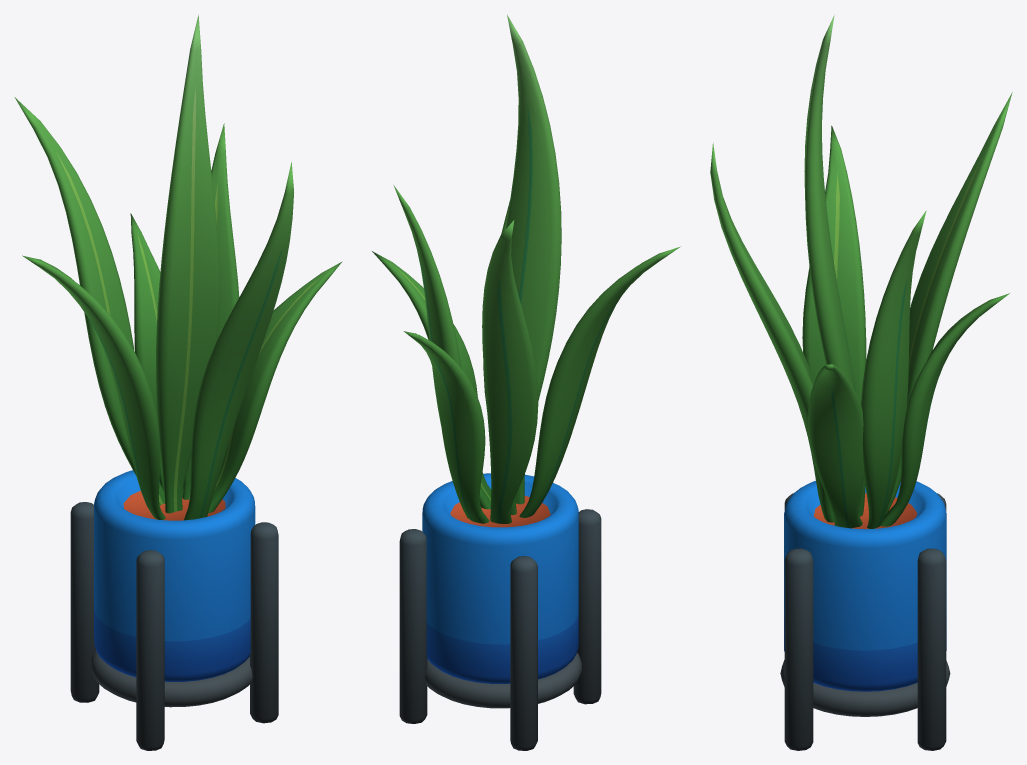
Rendered from Plants_17.glb.
3 views of the same model, side by side, from view 1: azimuth 30°, elevation 25°; view 2: azimuth 150°, elevation 25°; view 3: azimuth 270°, elevation 25° (orthographic). The views are drawn at different scales.
Visible parts, largest first — view 1: Plants_17; view 2: Plants_17; view 3: Plants_17.
Part boxes in pixels (x1,y1,x2,y2): Plants_17: [14, 14, 342, 750]; Plants_17: [372, 14, 680, 750]; Plants_17: [710, 14, 1012, 750].
Bounding box in the file's own units: 1.04 × 2.2 × 0.8473.
1 material, 1 textured.
